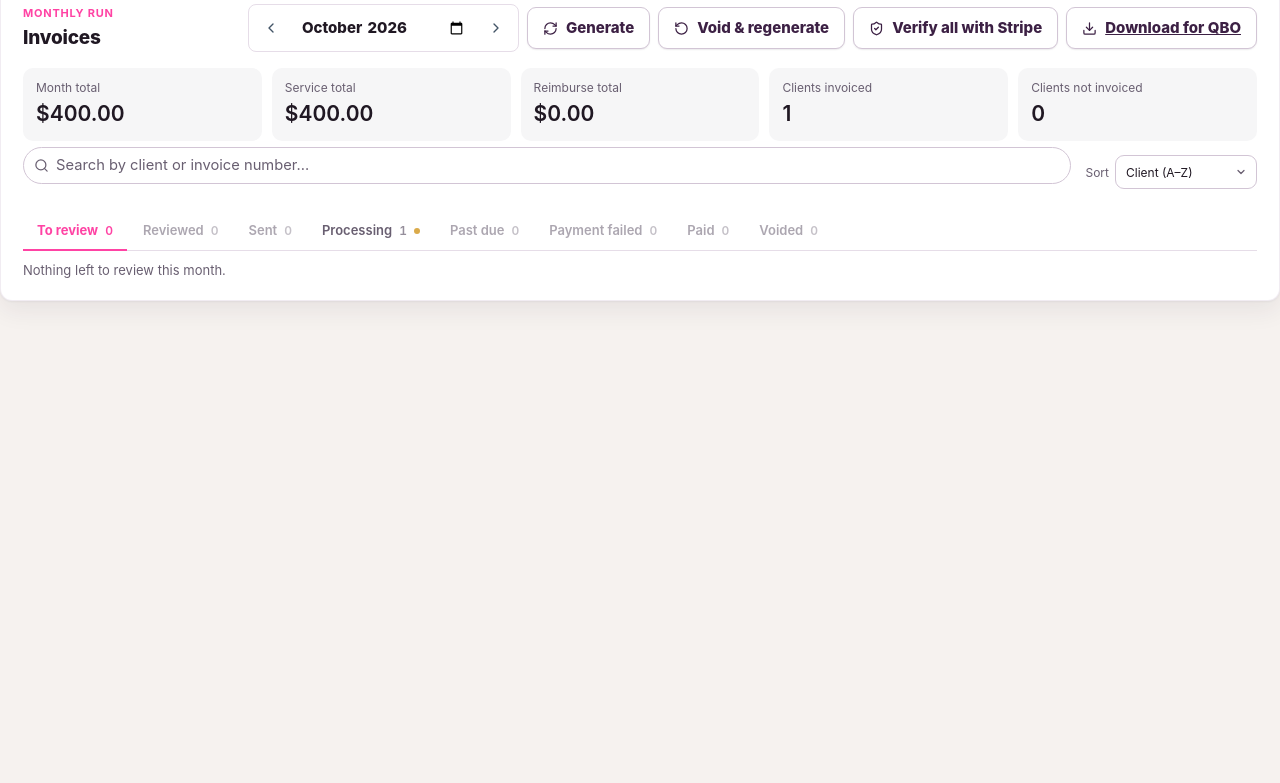
Test case: a payment for a different amount than the invoice total › while a bank payment is still processing, never says it is recorded as paid
Click the tab "Processing 1". click: (371, 232)
box: [308,212,434,251]
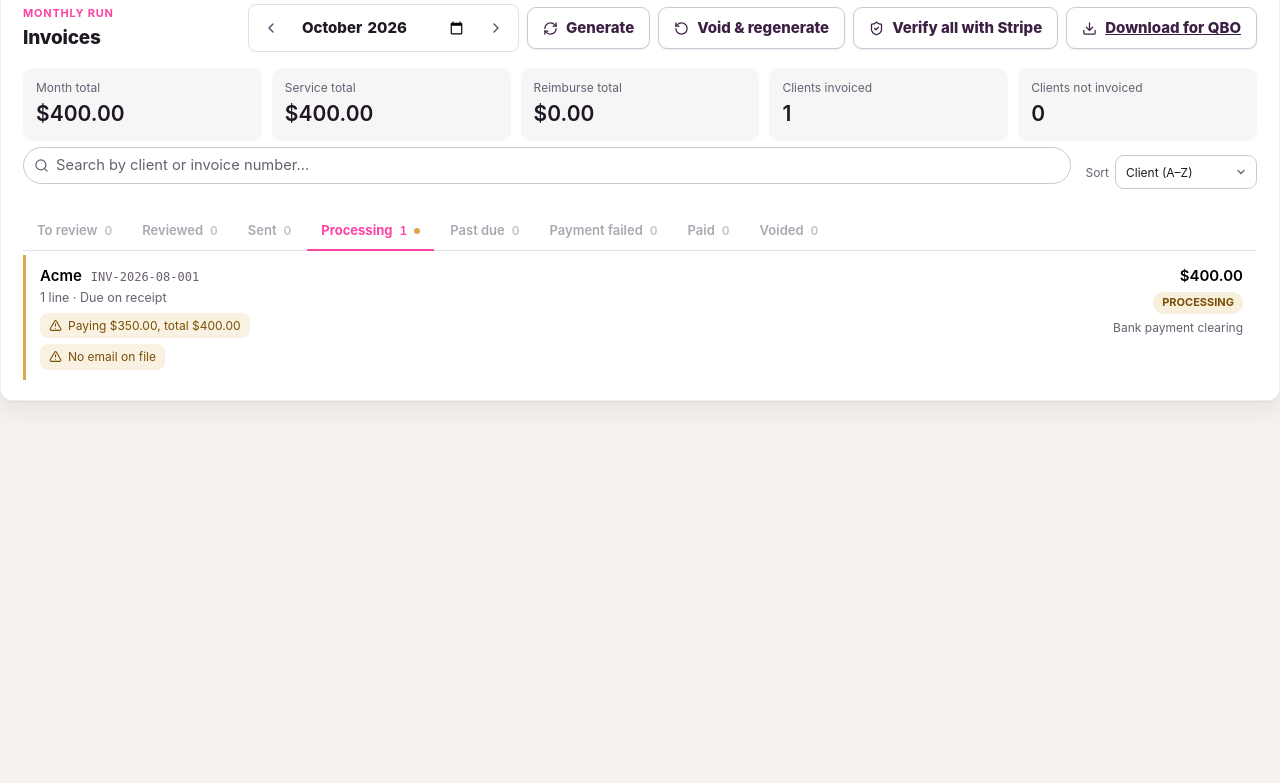
Expected: the text "Paying $350.00, total $400.00" is shown, [40,313,250,338]
Click the text "INV-2026-08-001". click: (145, 278)
box: [91,269,199,286]
(page scrolled)
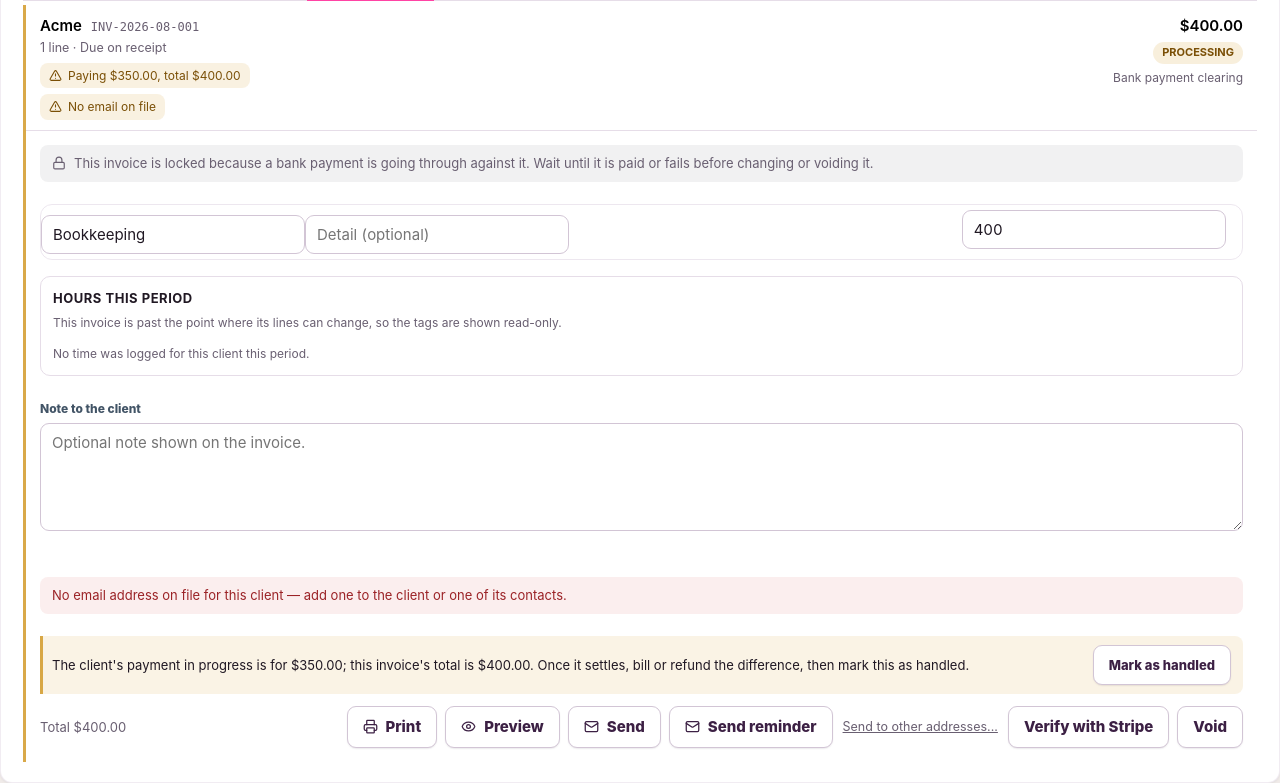
Expected: the text "The client's payment in progress is for $350.00; this invoice's total is $400.00. Once it settles, bill or refund the di" is shown, [52,657,969,673]
